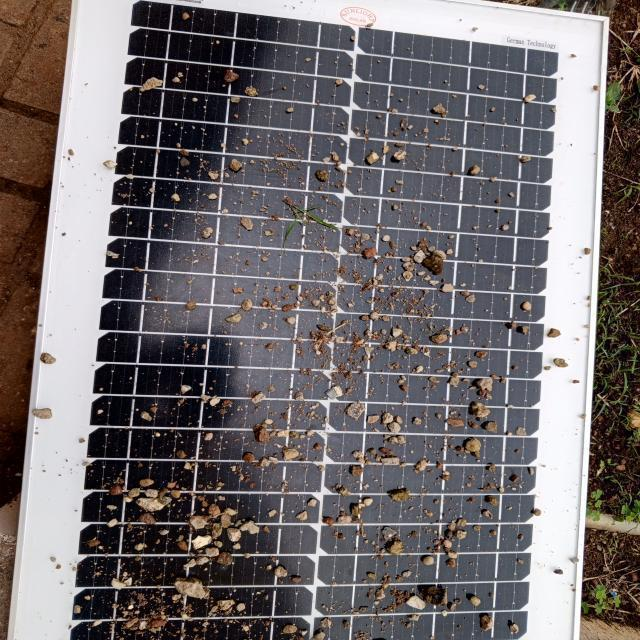Surface Contaminant: (98, 0, 548, 639), (85, 44, 555, 619), (543, 0, 545, 3)
